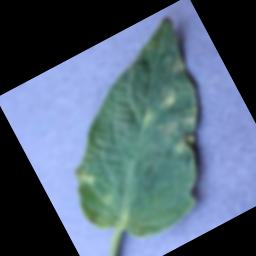Leaf_Mold: (71, 163, 97, 190), (155, 90, 179, 111)
